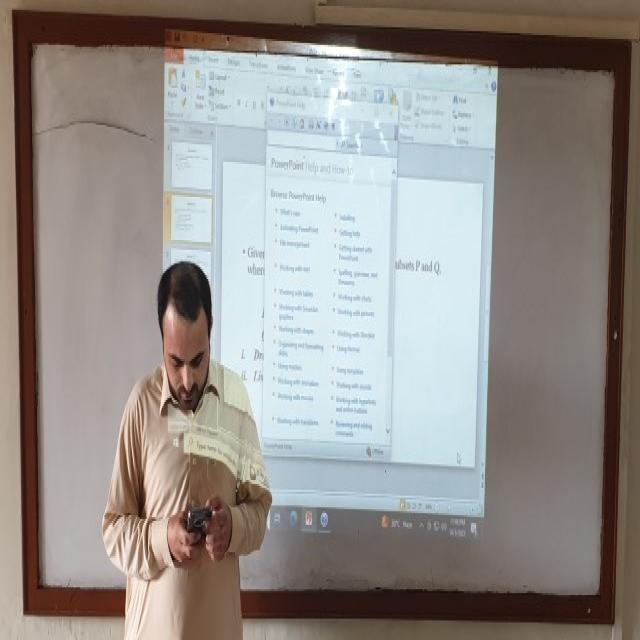Instructor: (116, 255, 254, 640)
Slide: (160, 30, 502, 549)
White-board: (20, 21, 624, 613)
